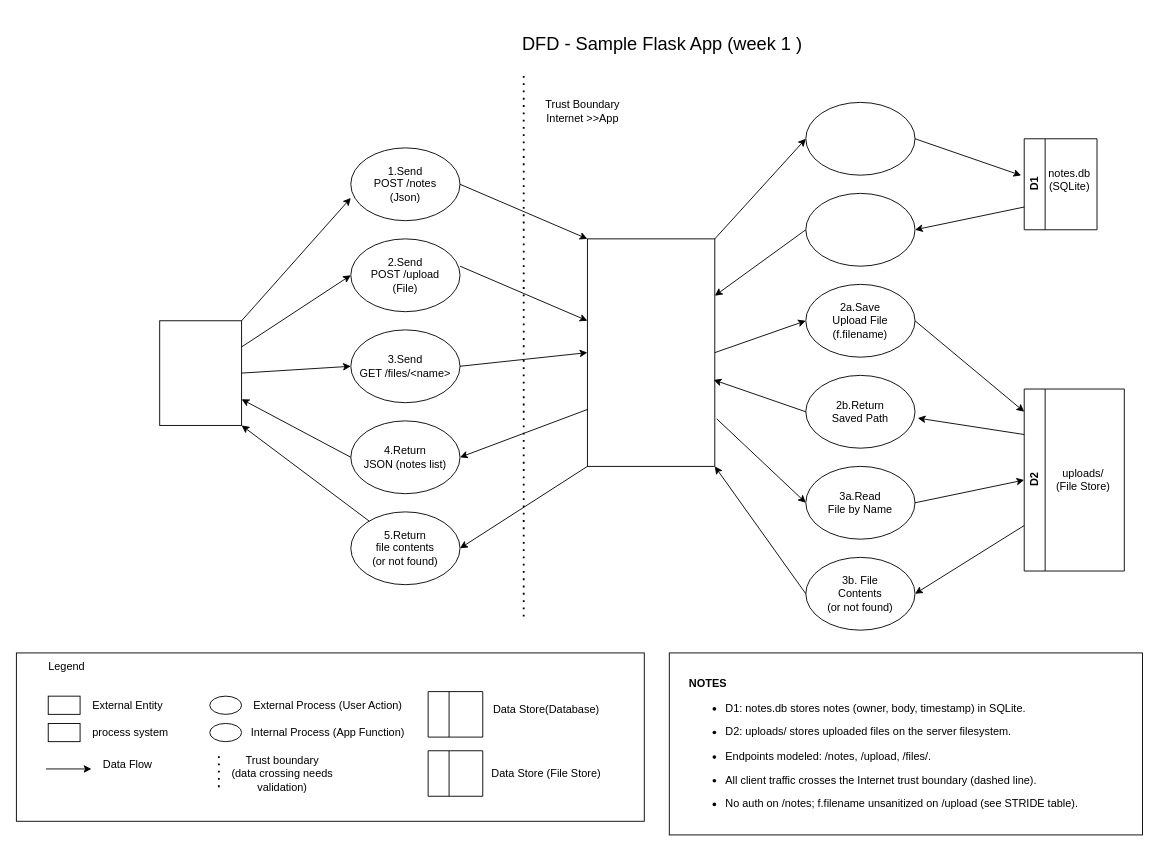
The diagram is 1158 pixels wide and 851 high, and some of its shapes have lost their labels. Each missing label, with the centre of its shape:
"1a.Insert Note" goes at point (860, 138).
"1b. Query Notes" goes at point (860, 229).
"External User (Web Client)" goes at point (200, 372).
"Flask App (process) -Handle /notes -Handles /upload -Handles /files/<name>" goes at point (650, 352).
